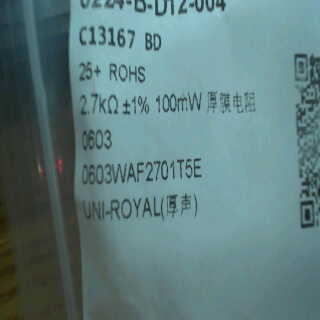2.7kR: (74, 91, 120, 121)
